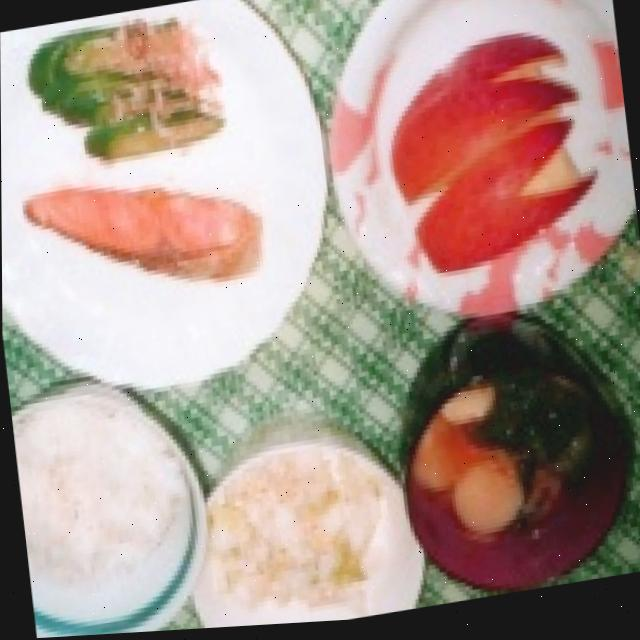熟制海鲜: (28, 161, 292, 321)
